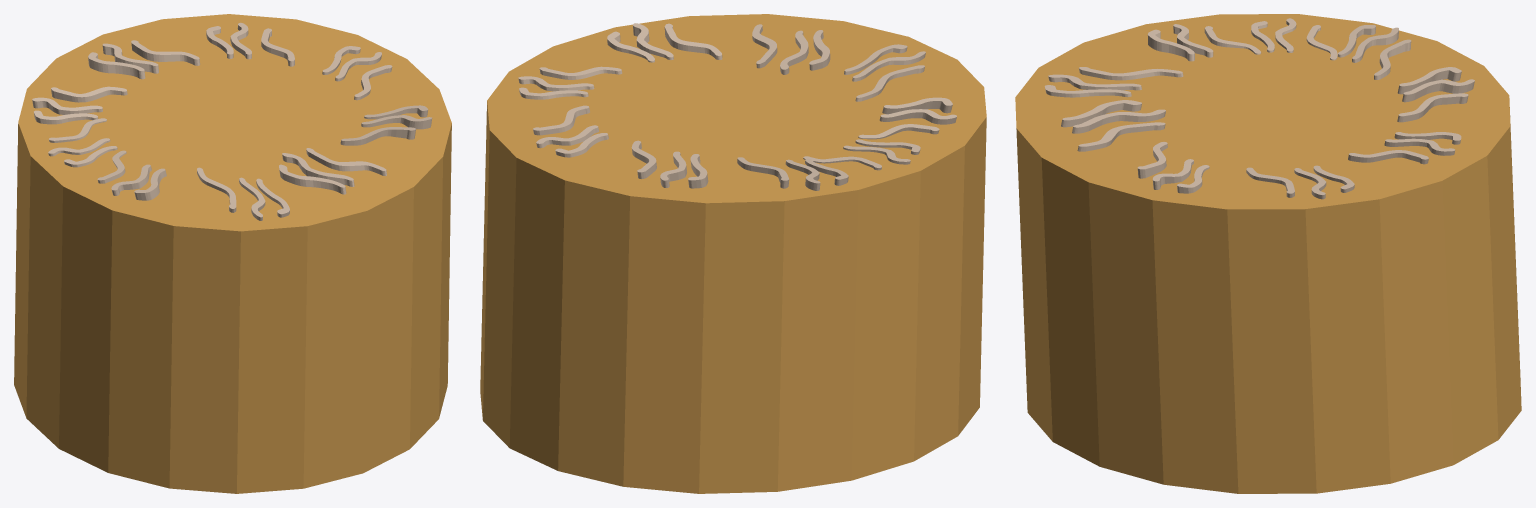
The model's file is Chromatin.glb.
The picture shows the model from 3 angles, left to right: view 1: azimuth 30°, elevation 25°; view 2: azimuth 150°, elevation 25°; view 3: azimuth 270°, elevation 25°; orthographic projection. The views are drawn at different scales.
Visible parts, largest first — view 1: Mesh_Mesh_head_geo.001_lambert2SG.001; view 2: Mesh_Mesh_head_geo.001_lambert2SG.001; view 3: Mesh_Mesh_head_geo.001_lambert2SG.001.
Part boxes in pixels (x1,y1,x2,y2): Mesh_Mesh_head_geo.001_lambert2SG.001: [14, 14, 451, 493]; Mesh_Mesh_head_geo.001_lambert2SG.001: [480, 14, 986, 493]; Mesh_Mesh_head_geo.001_lambert2SG.001: [1015, 14, 1521, 493].
Size of the model in its own units: 28.69 by 20.53 by 30.69.
